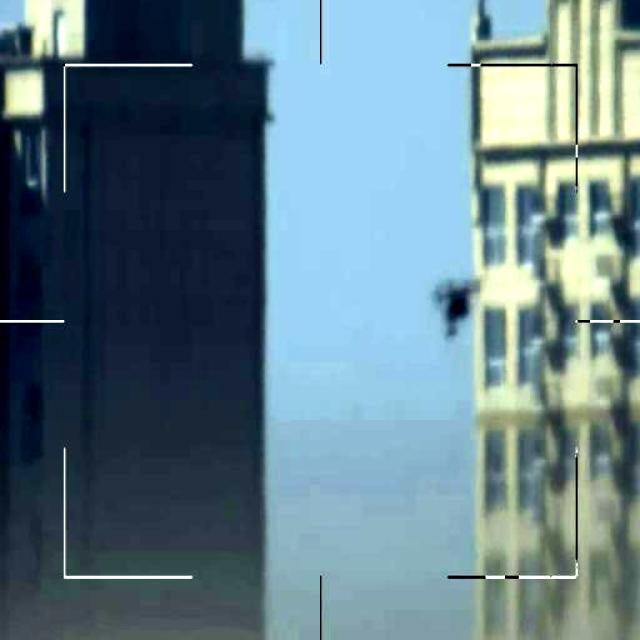bird: (429, 269, 488, 338)
